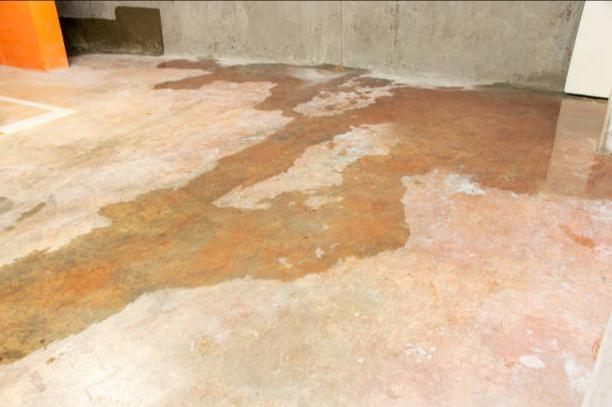water accumulation: (0, 54, 612, 368)
